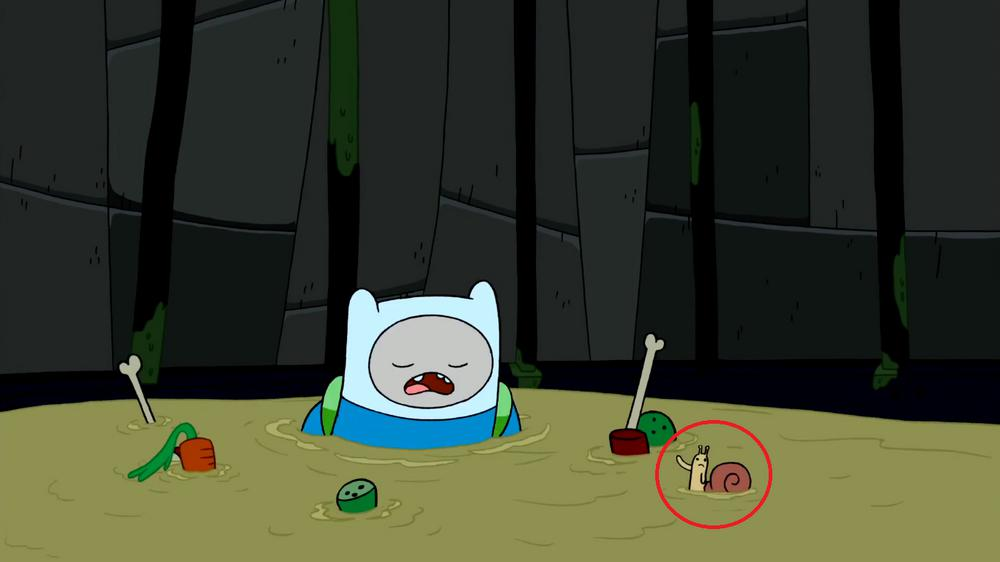snail: (675, 440, 753, 496)
